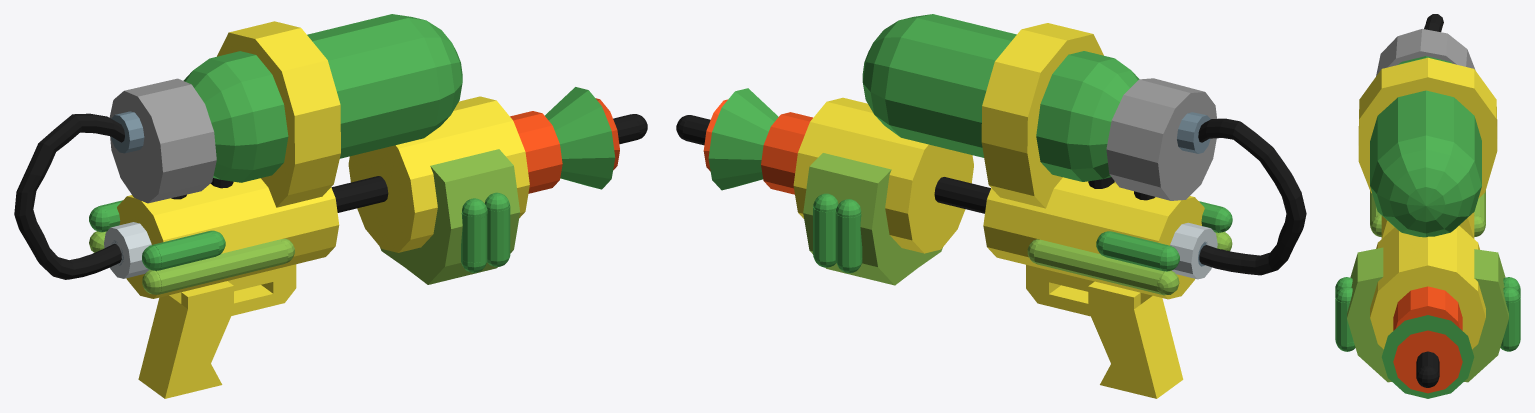
Rendered from Watergun .glb.
The picture shows the model from 3 angles, left to right: view 1: azimuth 30°, elevation 25°; view 2: azimuth 150°, elevation 25°; view 3: azimuth 270°, elevation 25°; orthographic projection. The views are drawn at different scales.
Parts seen in each view (by area): view 1: group1528942852, group1231265303, group788754832, group152732627, group1432826538, group1626636843, group1460454516, group426131636, group805588756, group1919121466, group501557005, group1093873200 (+5 smaller); view 2: group1528942852, group1231265303, group788754832, group152732627, group1432826538, group1626636843, group1460454516, group426131636, group805588756, group869934215, group501557005, group1093873200 (+5 smaller); view 3: group1528942852, group1231265303, group152732627, group1460454516, group805588756, group1119951653, group1626636843, group501557005, group155952289, group1585345453, group788754832, group1788925378 (+8 smaller).
Boxes of the visible parts, x1=… form: group1528942852: x1=183, y1=14, x2=462, y2=182; group1231265303: x1=348, y1=96, x2=529, y2=252; group788754832: x1=117, y1=178, x2=339, y2=298; group152732627: x1=217, y1=21, x2=340, y2=207; group1432826538: x1=138, y1=264, x2=296, y2=398; group1626636843: x1=109, y1=78, x2=216, y2=203; group1460454516: x1=380, y1=149, x2=519, y2=284; group426131636: x1=14, y1=113, x2=124, y2=279; group805588756: x1=545, y1=87, x2=615, y2=189; group1919121466: x1=156, y1=239, x2=288, y2=294; group501557005: x1=510, y1=111, x2=562, y2=193; group1093873200: x1=331, y1=114, x2=640, y2=212; group1528942852: x1=862, y1=14, x2=1139, y2=181; group1231265303: x1=793, y1=97, x2=973, y2=253; group788754832: x1=983, y1=177, x2=1204, y2=299; group152732627: x1=981, y1=23, x2=1103, y2=208; group1432826538: x1=1026, y1=265, x2=1183, y2=398; group1626636843: x1=1106, y1=78, x2=1216, y2=200; group1460454516: x1=803, y1=153, x2=942, y2=285; group426131636: x1=1198, y1=118, x2=1306, y2=275; group805588756: x1=708, y1=88, x2=778, y2=190; group869934215: x1=1034, y1=240, x2=1163, y2=294; group501557005: x1=761, y1=112, x2=812, y2=194; group1093873200: x1=682, y1=115, x2=990, y2=213; group1528942852: x1=1370, y1=56, x2=1481, y2=237; group1231265303: x1=1370, y1=225, x2=1485, y2=349; group152732627: x1=1358, y1=57, x2=1497, y2=198; group1460454516: x1=1347, y1=247, x2=1508, y2=382; group805588756: x1=1381, y1=315, x2=1474, y2=398; group1119951653: x1=1393, y1=330, x2=1462, y2=393; group1626636843: x1=1376, y1=28, x2=1475, y2=76; group501557005: x1=1393, y1=286, x2=1462, y2=330; group155952289: x1=1501, y1=298, x2=1520, y2=344; group1585345453: x1=1335, y1=298, x2=1353, y2=344; group788754832: x1=1381, y1=212, x2=1474, y2=238; group1788925378: x1=1416, y1=365, x2=1439, y2=387.
Size of the model in its own units: 0.5479 by 0.27 by 0.16.
